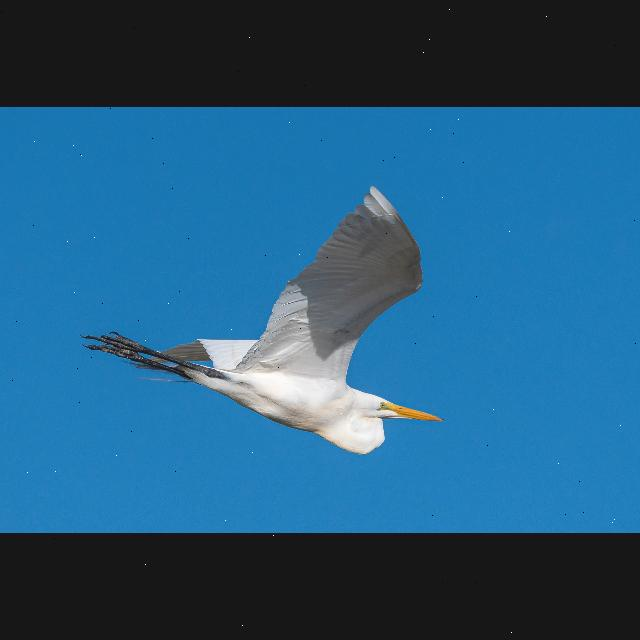egret: (76, 185, 478, 460)
